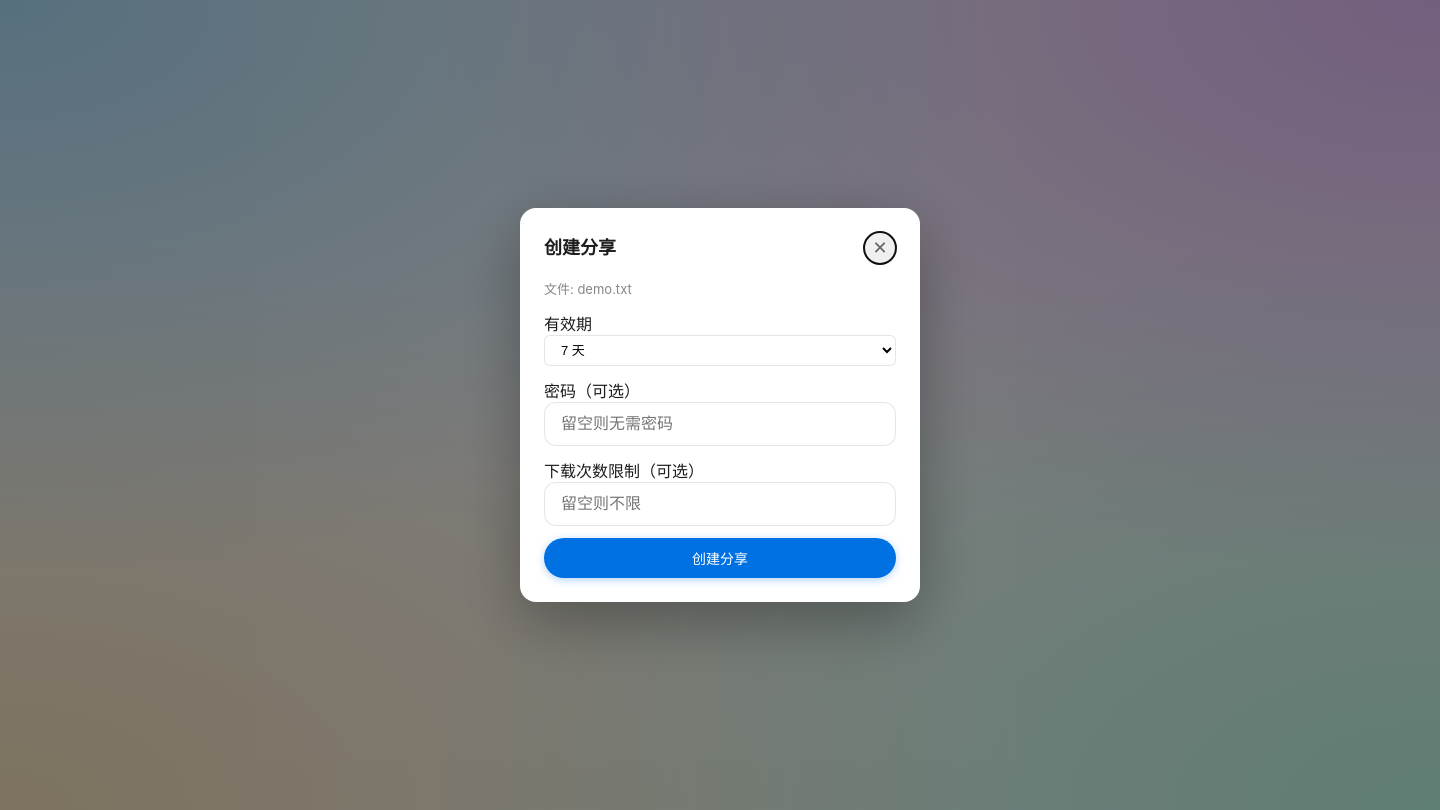
CreateShareDialog › creates share successfully and renders generated link
The width and height of the screenshot is (1440, 810).
In the field with placeholder "留空则无需密码": (720, 424) [544,402,896,446], type "p@ss"
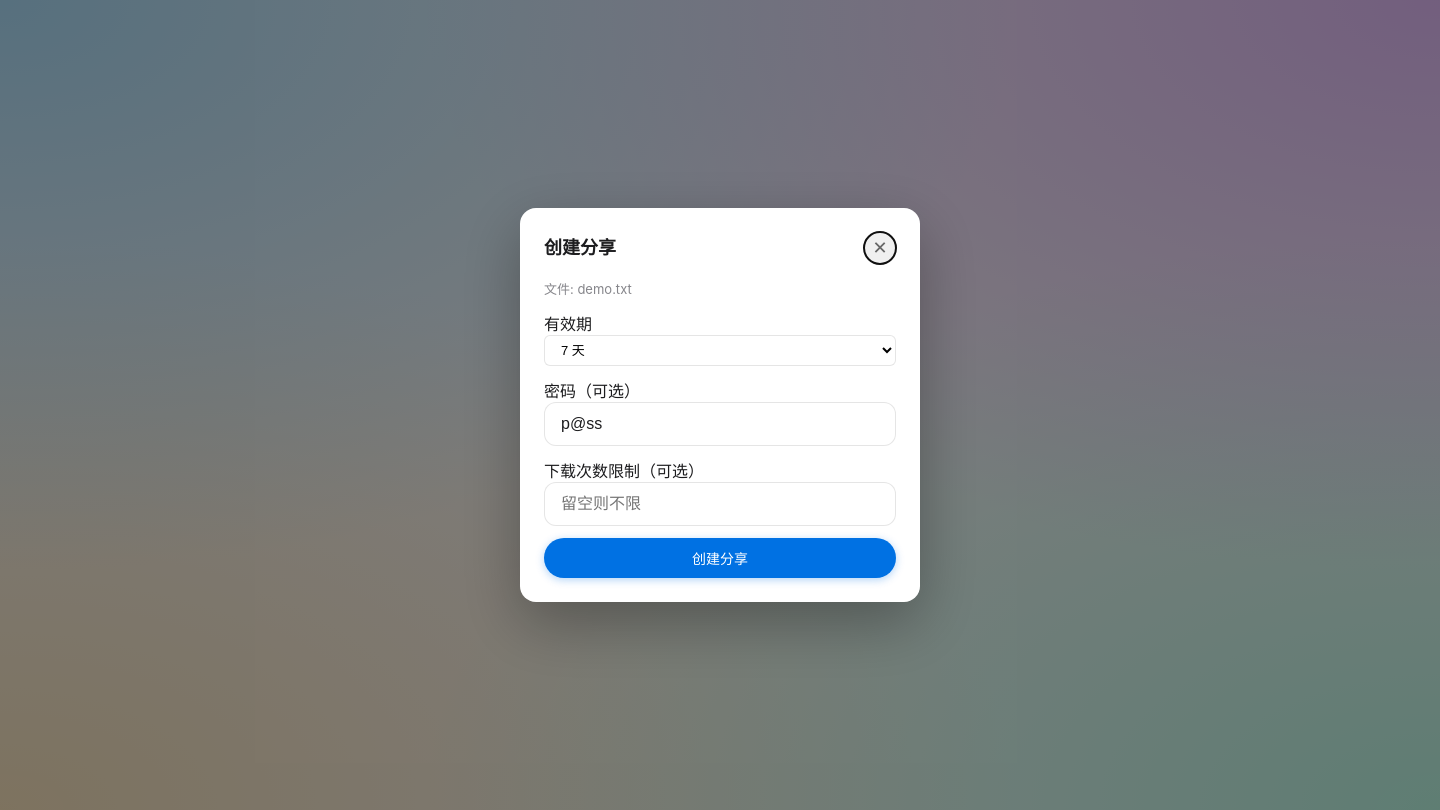
In the number field with placeholder "留空则不限": (720, 504) [544,482,896,526], type "5"
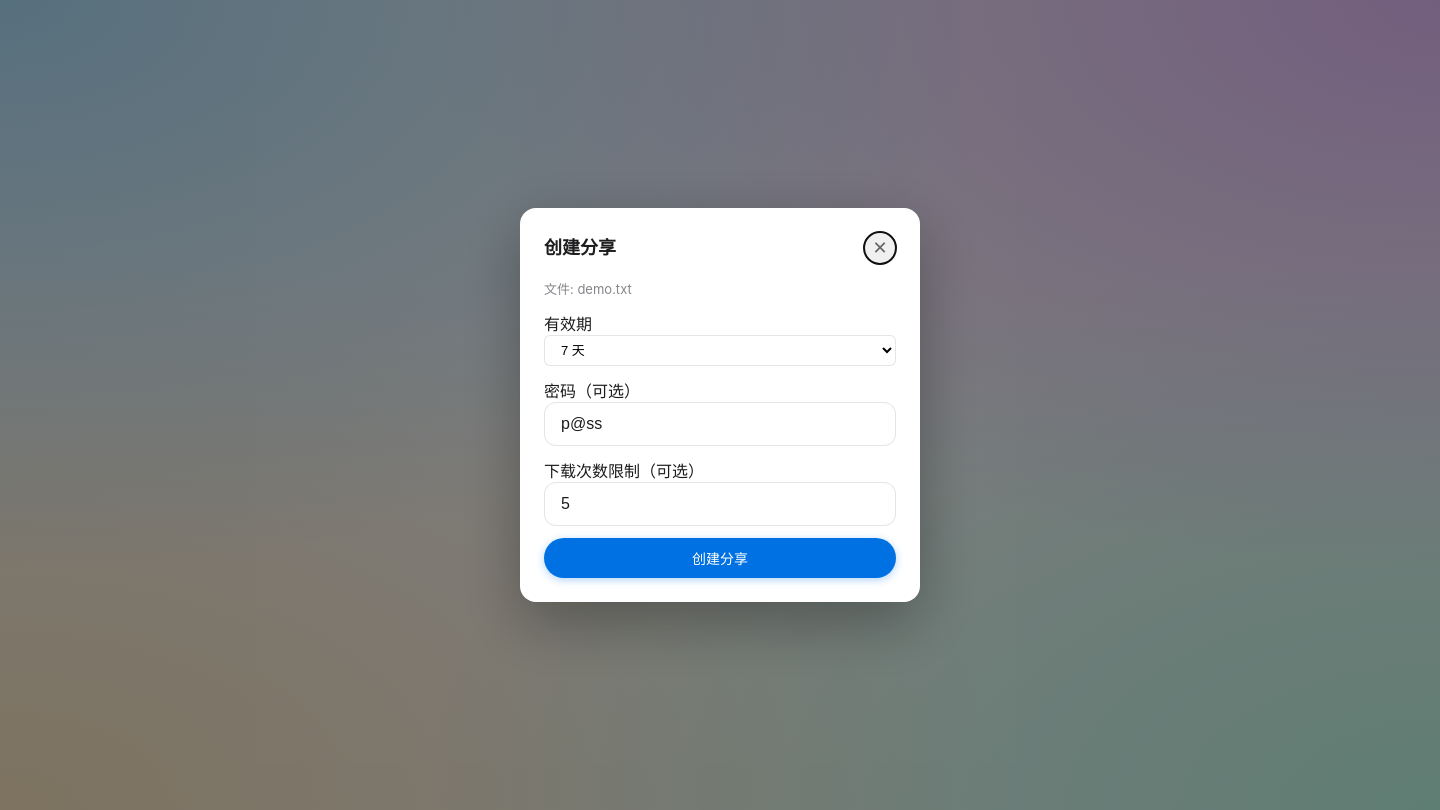
Select "1 小时" in the dropdown: (720, 351) [544,335,896,366]
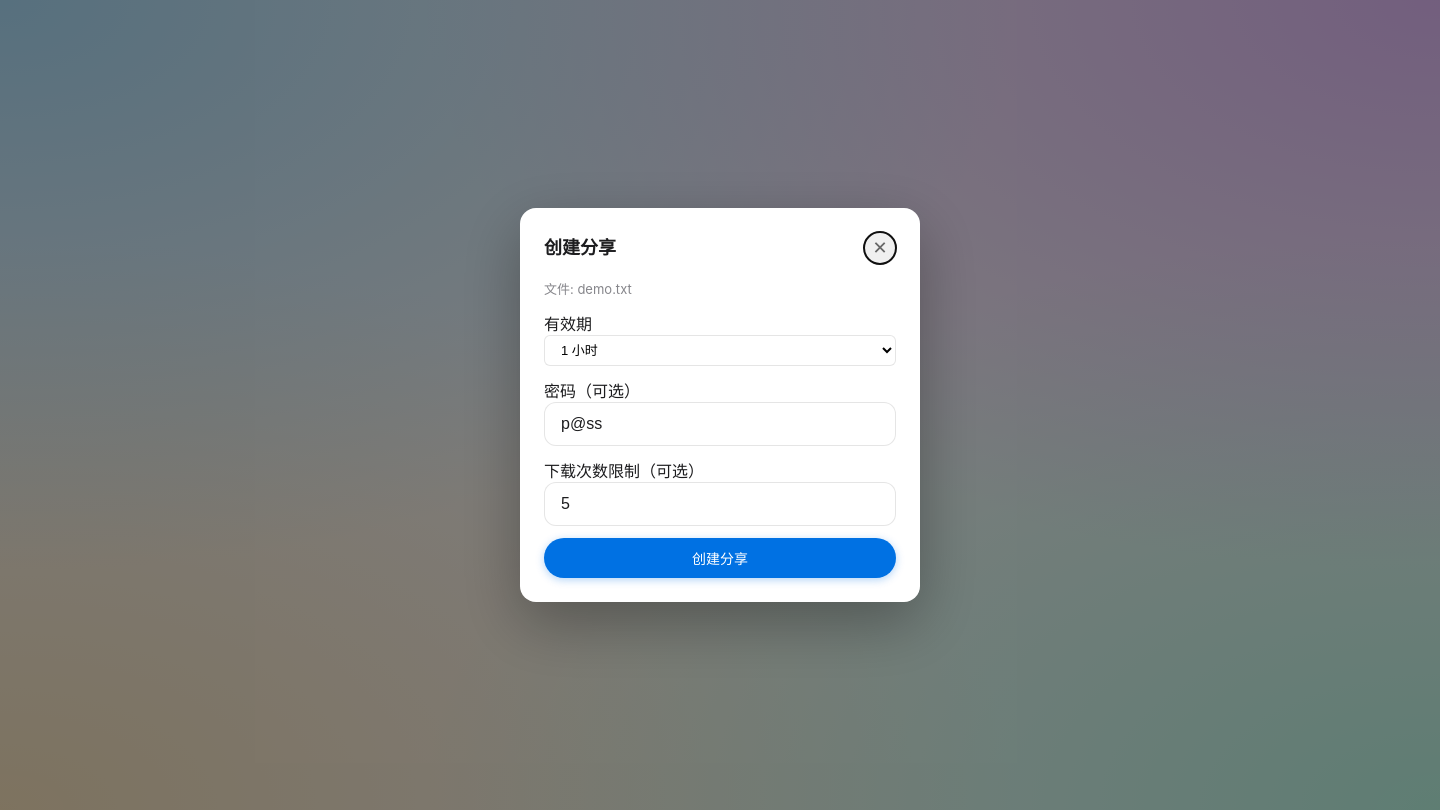
Click the button "创建分享": (720, 558) [544,538,896,578]
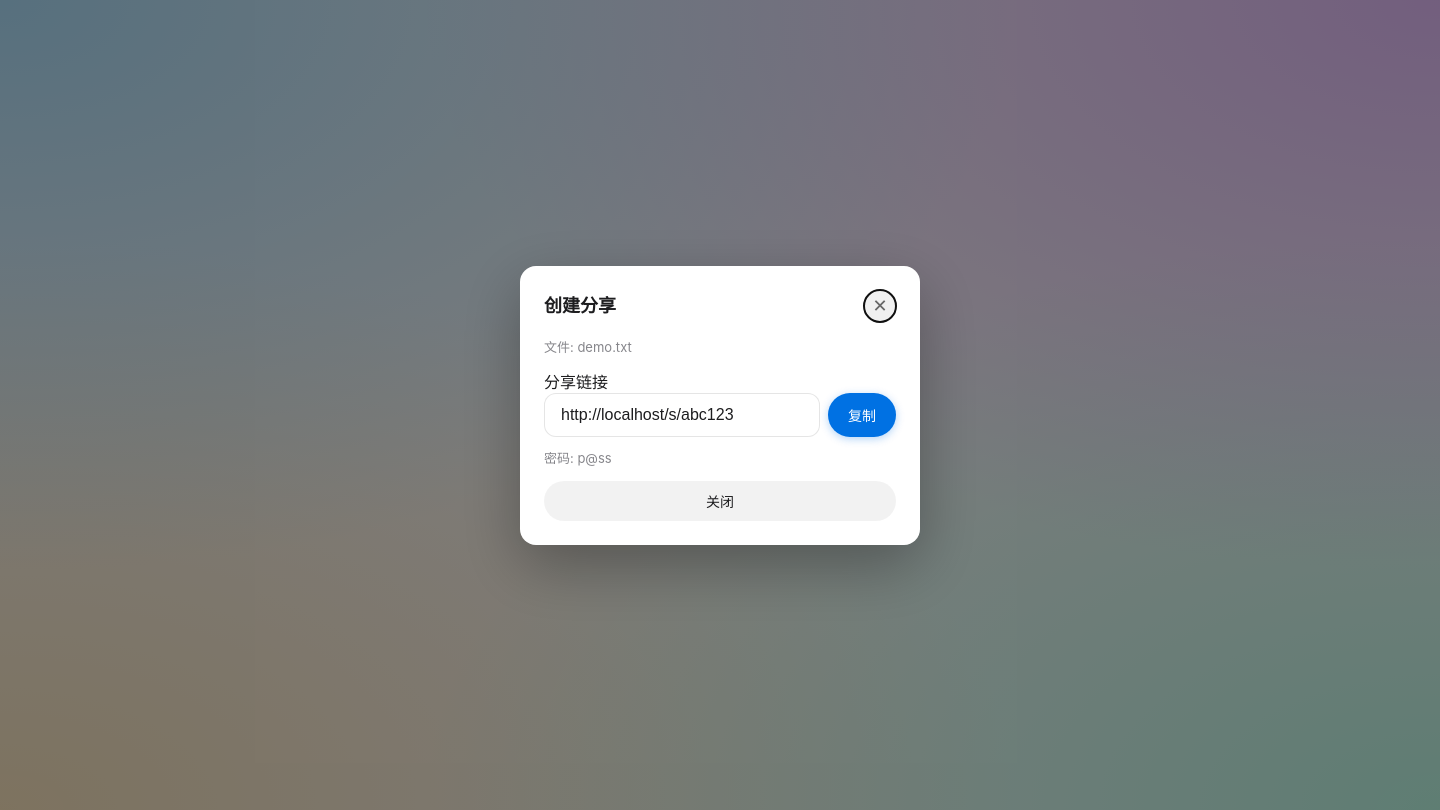
Expected: the field showing "http://localhost/s/abc123" is shown, [544,393,820,437]
Expected: the text "密码: p@ss" is shown, [544,450,612,466]
